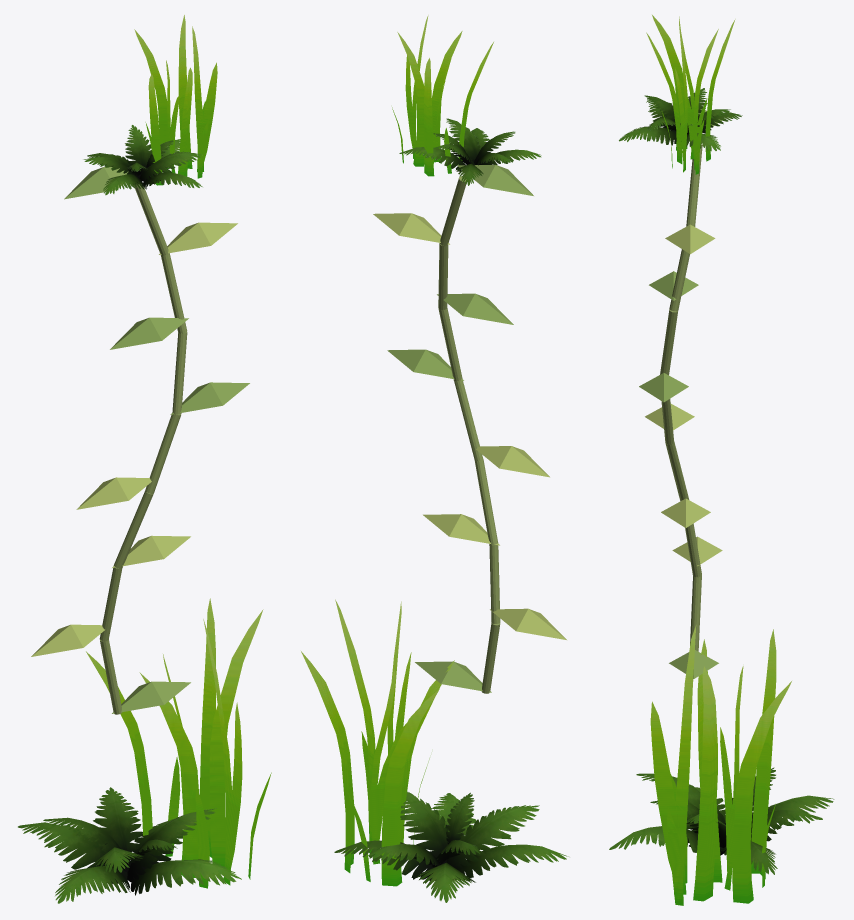
The model's file is Relay_Mast_Greenery.glb.
3 views of the same model, side by side, from view 1: azimuth 30°, elevation 25°; view 2: azimuth 150°, elevation 25°; view 3: azimuth 270°, elevation 25° (orthographic). The views are drawn at different scales.
Parts seen in each view (by area): view 1: Patch_000, Patch_001; view 2: Patch_001, Patch_000; view 3: Patch_000, Patch_001.
Boxes of the visible parts, x1,y1,x2,y2 form: Patch_000: [18, 598, 271, 903]; Patch_001: [31, 15, 249, 714]; Patch_001: [373, 15, 566, 693]; Patch_000: [301, 599, 568, 902]; Patch_000: [609, 625, 834, 905]; Patch_001: [619, 15, 742, 678].
Bounding box in the file's own units: 0.7066 × 2.48 × 0.6134.
Materials: 5 (2 with a texture image).
